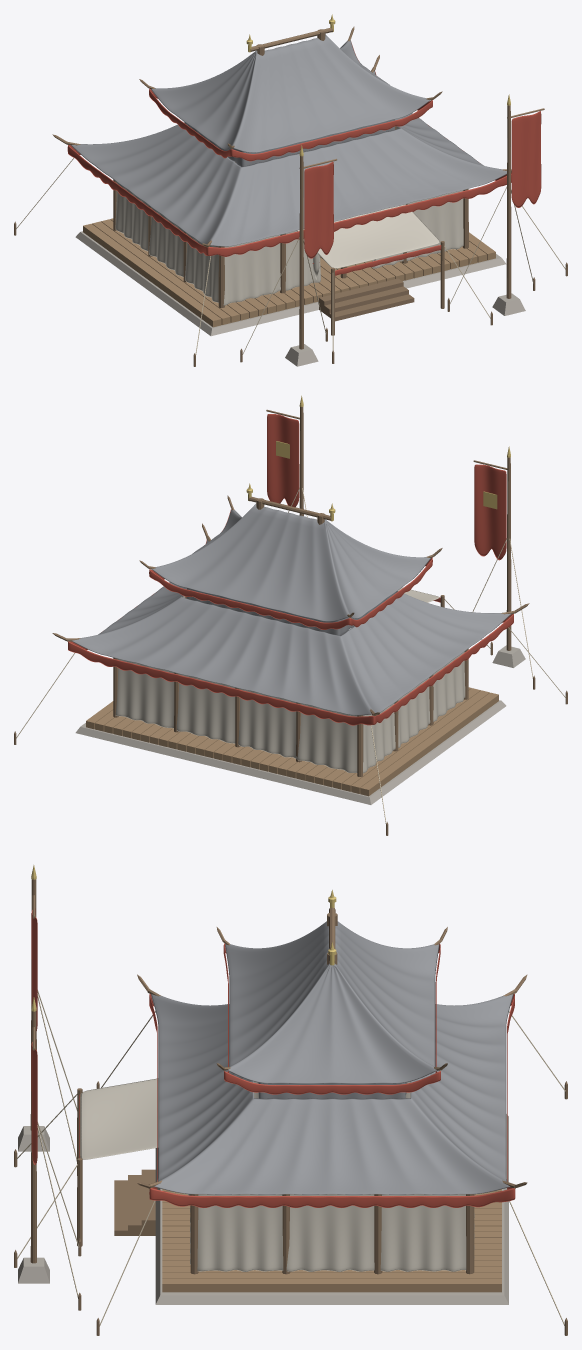
Rendered from C01_主帅指挥帐.fbx.
The picture shows the model from 3 angles, top to bottom: view 1: azimuth 30°, elevation 25°; view 2: azimuth 150°, elevation 25°; view 3: azimuth 270°, elevation 25°; orthographic projection. The views are drawn at different scales.
Visible parts, largest first — view 1: C01_下檐, C01_上檐, C01_围帐, C01_台基_木板, C01_门旗_幡, C01_前檐遮阳, C01_下檐_垂幔, C01_台基_石, C01_台基_踏步, C01_上檐_垂幔, C01_门旗_杆, C01_立柱 (+5 smaller); view 2: C01_下檐, C01_上檐, C01_围帐, C01_台基_木板, C01_门旗_幡, C01_台基_石, C01_下檐_垂幔, C01_上檐_垂幔, C01_立柱, C01_门旗_杆, C01_上围帐, C01_拉绳; view 3: C01_下檐, C01_上檐, C01_围帐, C01_台基_木板, C01_台基_石, C01_前檐遮阳, C01_下檐_垂幔, C01_上檐_垂幔, C01_台基_踏步, C01_立柱, C01_拉绳, C01_门旗_幡 (+4 smaller).
Part boxes in pixels (left/top/right/bottom): C01_下檐: left=71, top=71, right=506, bottom=246; C01_上檐: left=151, top=34, right=430, bottom=152; C01_围帐: left=115, top=126, right=463, bottom=305; C01_台基_木板: left=83, top=218, right=495, bottom=327; C01_门旗_幡: left=304, top=111, right=541, bottom=258; C01_前檐遮阳: left=297, top=204, right=439, bottom=268; C01_下檐_垂幔: left=67, top=71, right=511, bottom=256; C01_台基_石: left=75, top=231, right=506, bottom=336; C01_台基_踏步: left=319, top=278, right=414, bottom=321; C01_上檐_垂幔: left=149, top=43, right=432, bottom=161; C01_门旗_杆: left=299, top=105, right=511, bottom=349; C01_立柱: left=113, top=126, right=468, bottom=308; C01_下檐: left=71, top=540, right=511, bottom=715; C01_上檐: left=151, top=503, right=430, bottom=621; C01_围帐: left=115, top=596, right=465, bottom=773; C01_台基_木板: left=86, top=687, right=498, bottom=796; C01_门旗_幡: left=267, top=414, right=506, bottom=560; C01_台基_石: left=75, top=700, right=506, bottom=804; C01_下檐_垂幔: left=68, top=539, right=513, bottom=725; C01_上檐_垂幔: left=149, top=509, right=432, bottom=629; C01_立柱: left=113, top=596, right=468, bottom=776; C01_门旗_杆: left=299, top=407, right=511, bottom=650; C01_上围帐: left=187, top=588, right=394, bottom=635; C01_拉绳: left=16, top=487, right=565, bottom=823; C01_下檐: left=151, top=994, right=513, bottom=1194; C01_上檐: left=225, top=921, right=439, bottom=1083; C01_围帐: left=190, top=1081, right=474, bottom=1271; C01_台基_木板: left=162, top=1189, right=501, bottom=1292; C01_台基_石: left=155, top=1114, right=508, bottom=1304; C01_前檐遮阳: left=80, top=1078, right=158, bottom=1159; C01_下檐_垂幔: left=149, top=994, right=515, bottom=1207; C01_上檐_垂幔: left=223, top=943, right=440, bottom=1094; C01_台基_踏步: left=114, top=1169, right=155, bottom=1235; C01_立柱: left=190, top=1194, right=474, bottom=1274; C01_拉绳: left=16, top=990, right=565, bottom=1326; C01_门旗_幡: left=31, top=908, right=37, bottom=1164.
Size of the model in its own units: 1226 by 725 by 1207.
